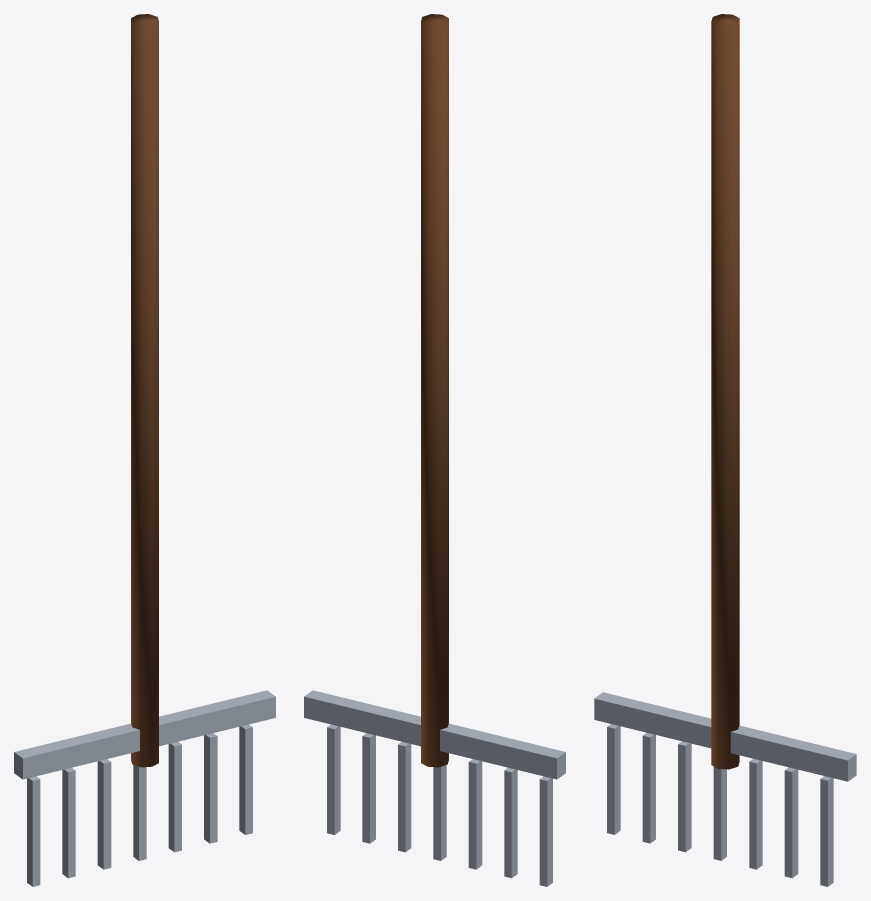
File: rake.glb
The picture shows the model from 3 angles, left to right: view 1: azimuth 30°, elevation 25°; view 2: azimuth 150°, elevation 25°; view 3: azimuth 330°, elevation 25°; orthographic projection.
Visible parts, largest first — view 1: rake; view 2: rake; view 3: rake.
Boxes of the visible parts, box(x1,y1,x2,y2) form: rake: box(14, 14, 275, 886); rake: box(304, 14, 565, 886); rake: box(594, 14, 856, 886).
Bounding box in the file's own units: 0.5 × 1.58 × 0.05.
